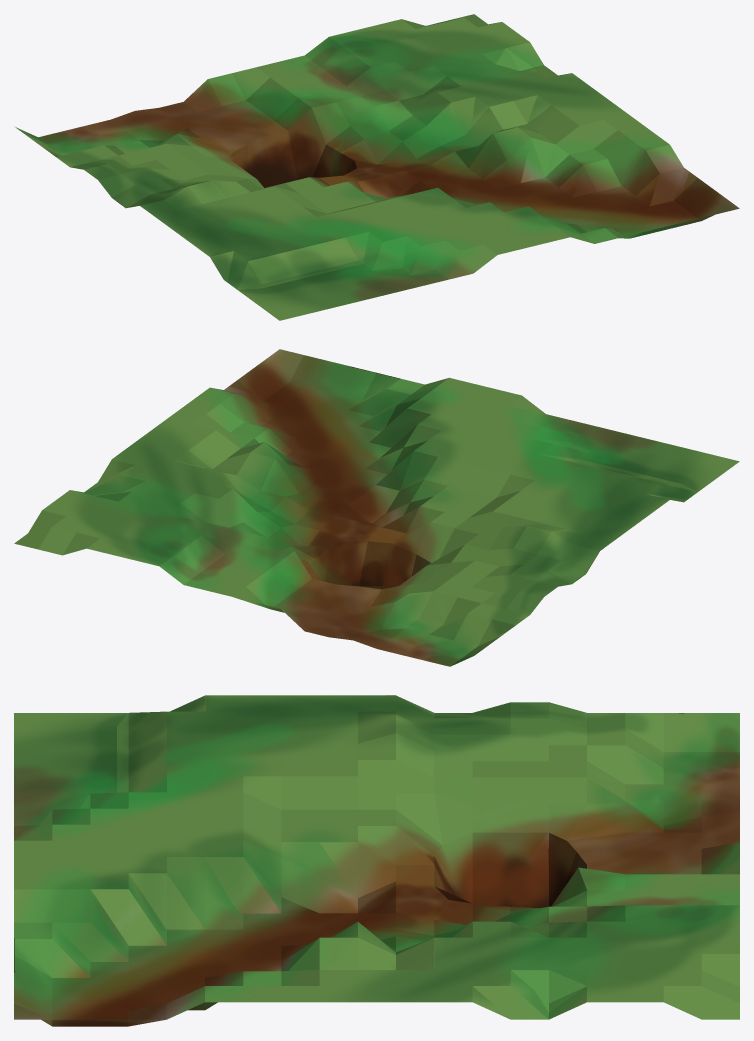
The model's file is Landschaft2.obj.
3 views of the same model, one above another, from view 1: azimuth 30°, elevation 25°; view 2: azimuth 150°, elevation 25°; view 3: azimuth 270°, elevation 25° (orthographic). The views are drawn at different scales.
Visible parts, largest first — view 1: Grid; view 2: Grid; view 3: Grid.
Part boxes in pixels (box(x1,y1,x2,y2)): Grid: box(14, 14, 739, 320); Grid: box(14, 349, 739, 666); Grid: box(14, 695, 739, 1026).
Size of the model in its own units: 16.04 by 3.34 by 16.04.
